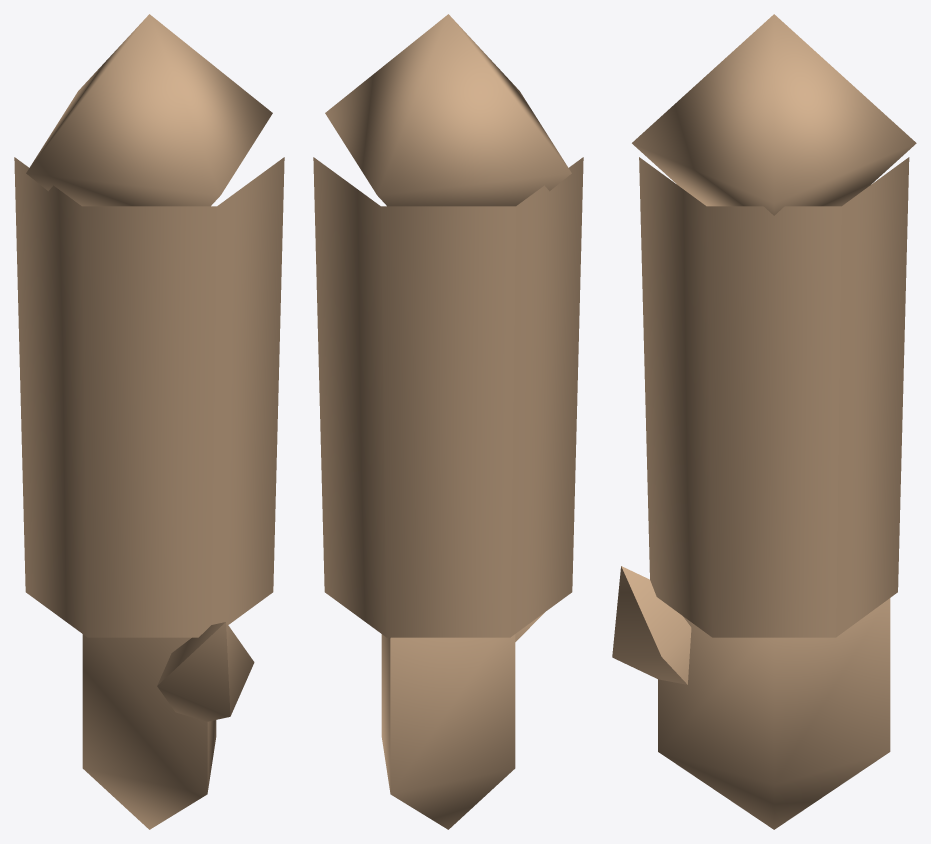
The model's file is serf_forearm.glb.
3 renders of one model, left to right at view 1: azimuth 30°, elevation 25°; view 2: azimuth 150°, elevation 25°; view 3: azimuth 270°, elevation 25°, orthographic.
Parts seen in each view (by area): view 1: serf_forearm; view 2: serf_forearm; view 3: serf_forearm.
Boxes of the visible parts, left/top/right/bottom form: serf_forearm: left=14, top=14, right=284, bottom=829; serf_forearm: left=313, top=14, right=583, bottom=829; serf_forearm: left=612, top=14, right=916, bottom=829.
Size of the model in its own units: 0.038 by 0.12 by 0.0406.
